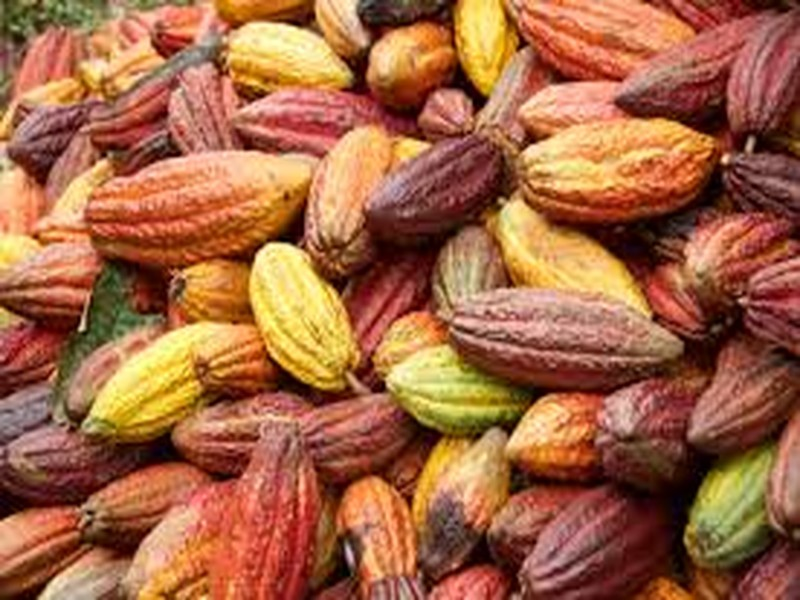Cacaopod: (85, 146, 311, 271)
